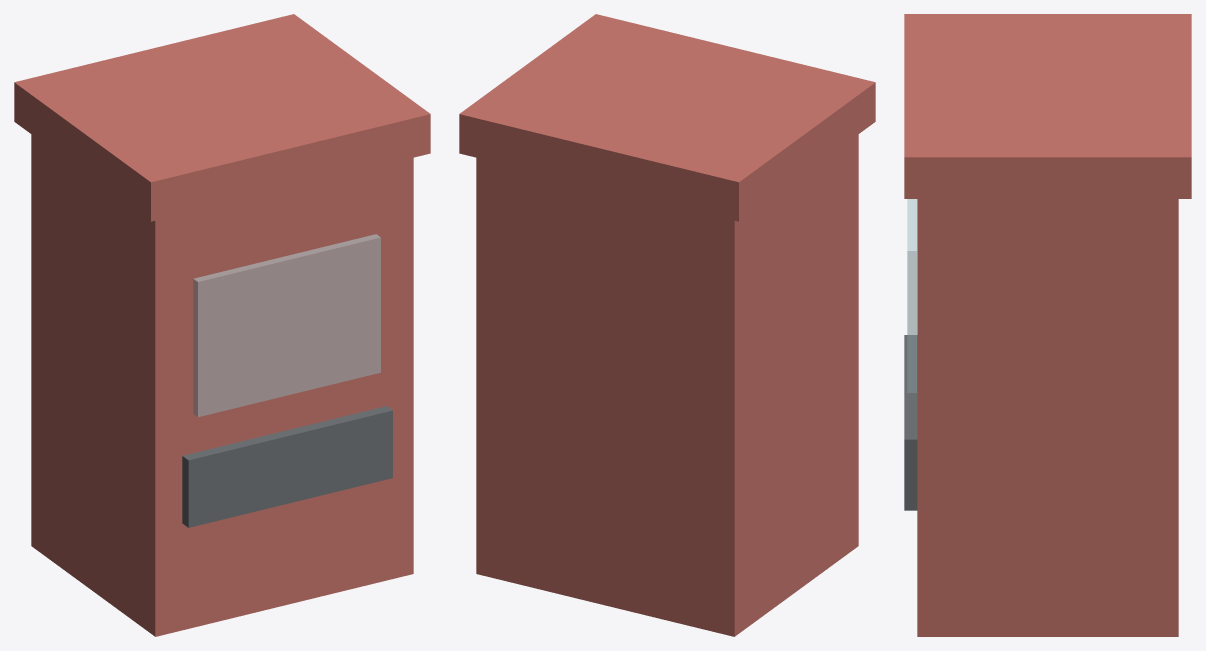
File: newspaper_box_01.glb
The picture shows the model from 3 angles, left to right: view 1: azimuth 30°, elevation 25°; view 2: azimuth 150°, elevation 25°; view 3: azimuth 270°, elevation 25°; orthographic projection. The views are drawn at different scales.
Visible parts, largest first — view 1: body, top, window, door; view 2: body, top; view 3: body, top, door, window.
Boxes of the visible parts, x1=… form: body: x1=31, y1=134, x2=413, y2=636; top: x1=14, y1=14, x2=430, y2=221; window: x1=193, y1=234, x2=380, y2=416; door: x1=182, y1=406, x2=392, y2=527; body: x1=476, y1=134, x2=858, y2=636; top: x1=459, y1=14, x2=875, y2=221; body: x1=917, y1=199, x2=1178, y2=636; top: x1=904, y1=14, x2=1191, y2=198; door: x1=904, y1=335, x2=917, y2=510; window: x1=907, y1=199, x2=916, y2=392.
Bounding box in the file's own units: 0.52 × 0.82 × 0.44.
